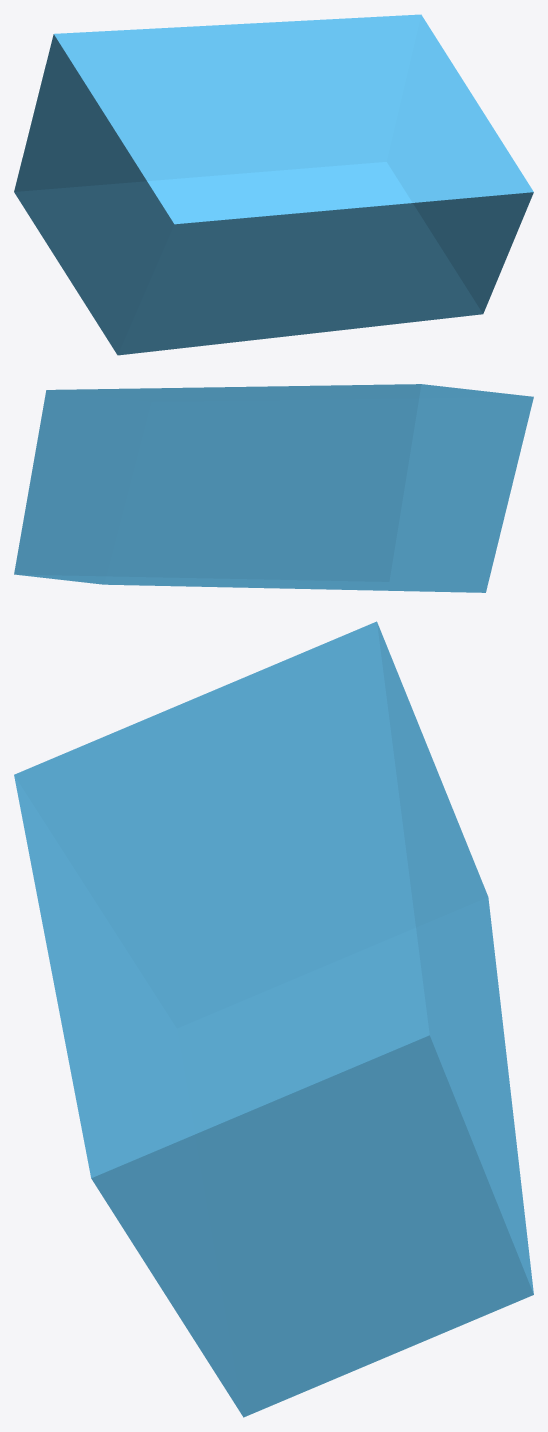
File: Event_421556567_HErechit_15.fbx
The picture shows the model from 3 angles, top to bottom: view 1: azimuth 30°, elevation 25°; view 2: azimuth 150°, elevation 25°; view 3: azimuth 270°, elevation 25°; orthographic projection. The views are drawn at different scales.
Parts seen in each view (by area): view 1: Model; view 2: Model; view 3: Model.
Part boxes in pixels (box(x1,y1,x2,y2)): Model: box(14, 14, 533, 355); Model: box(14, 384, 533, 592); Model: box(14, 621, 533, 1417).
Size of the model in its own units: 0.7374 by 0.6212 by 0.5698.
